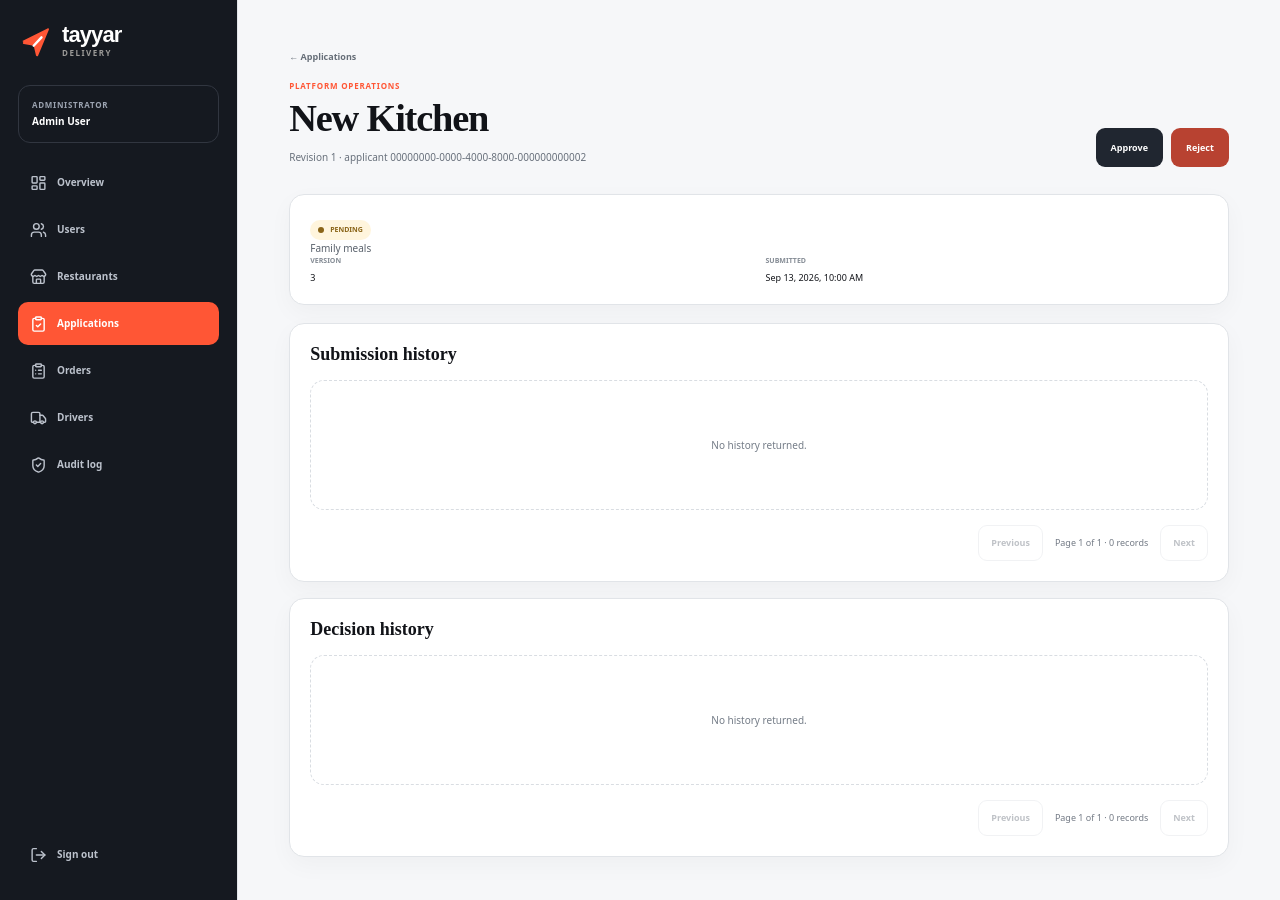
Test: approves without inventing a reason and refetches after stale application conflict
Step 1. Click the button "Approve" → (1129, 147), box [1096, 128, 1163, 167]
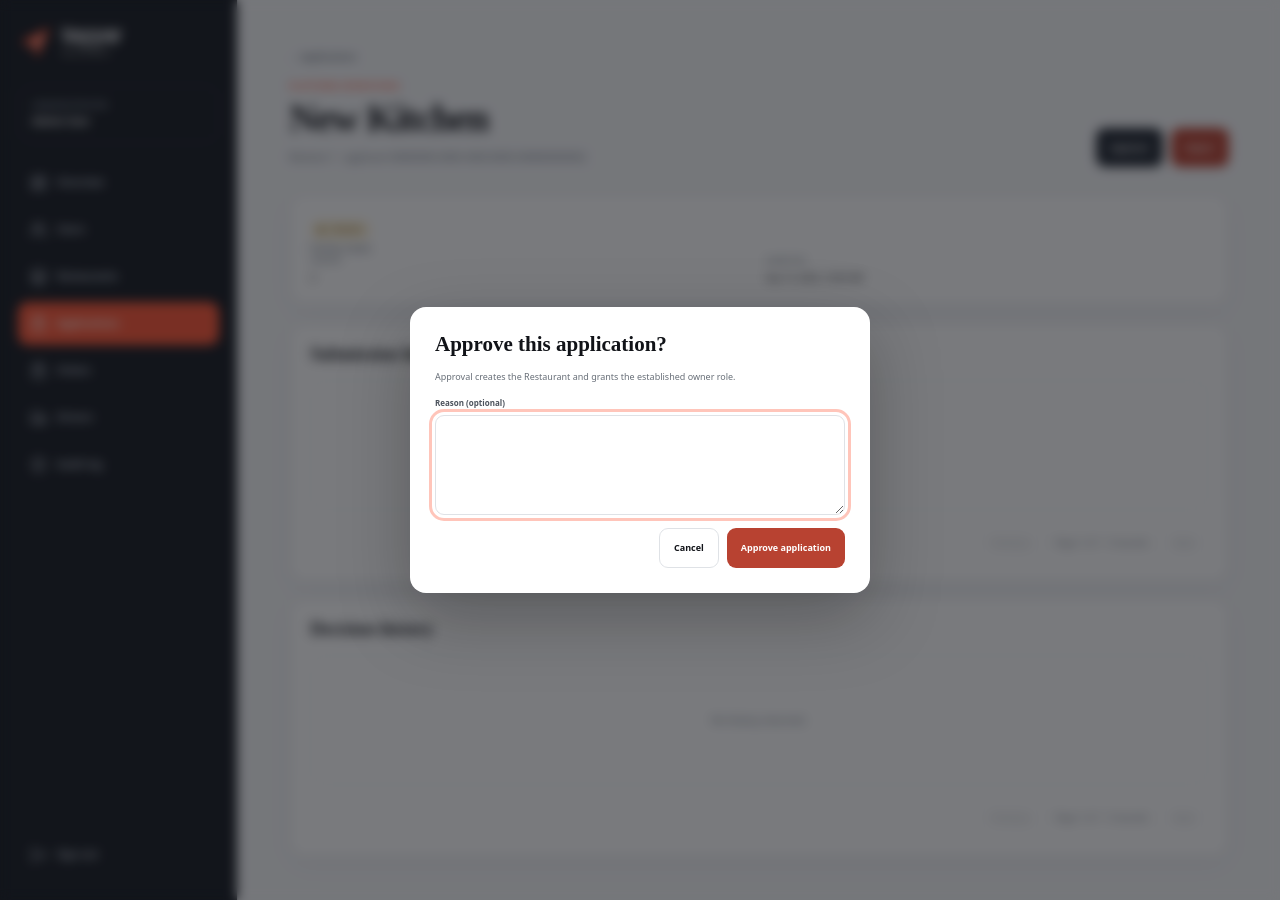
Step 2. Click the button "Approve application" → (786, 548), box [727, 528, 845, 568]
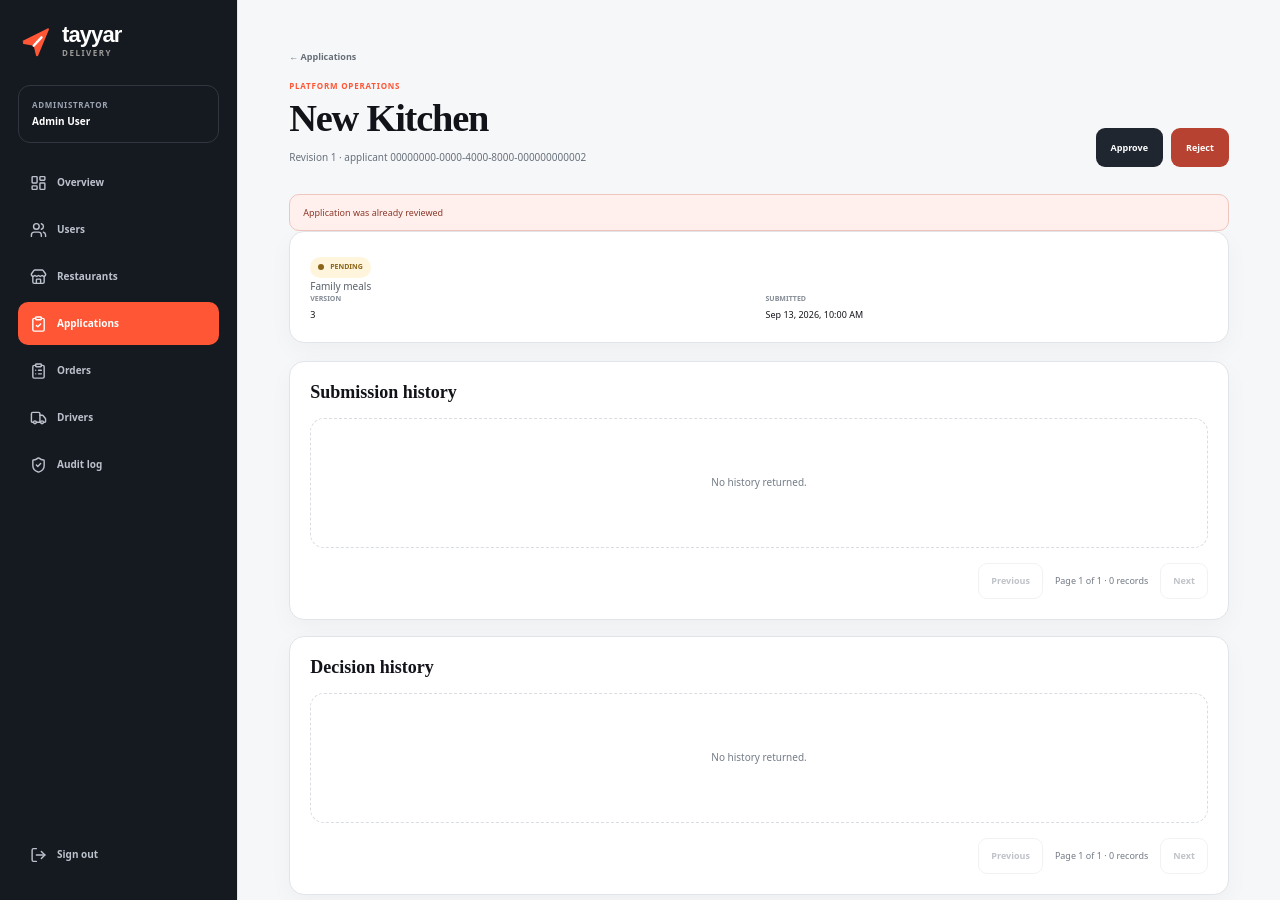
Now the text "Application was already reviewed" is shown, box [289, 194, 1229, 231]
